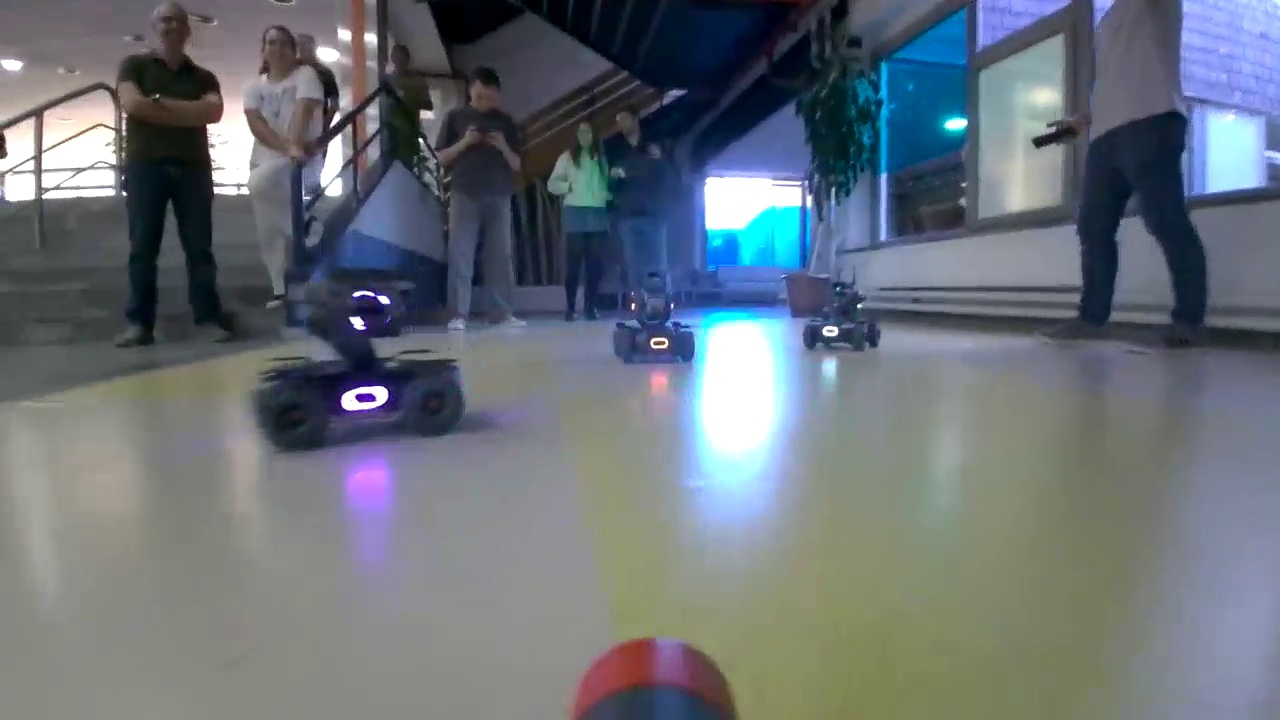robot: (259, 284, 478, 452), (610, 290, 706, 362), (800, 282, 880, 352)
